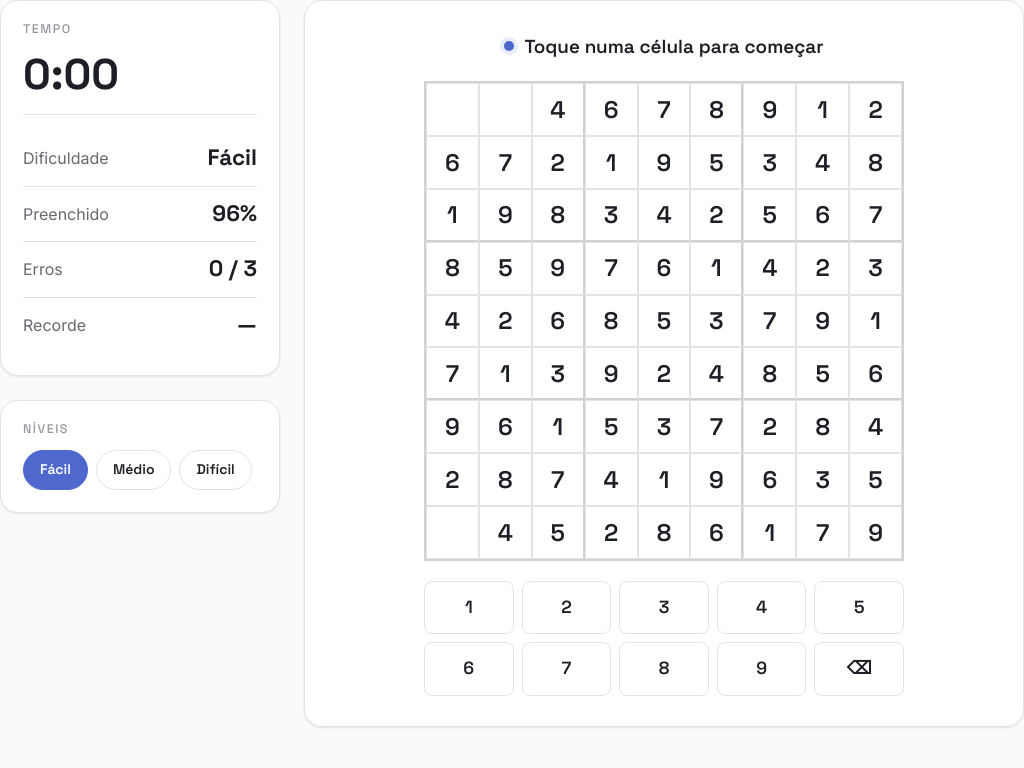
Sudoku — validação por conflito (regressão) › NÃO marca erro num número válido que difere da solução (sem conflito)
Step 1. Click the 1st element with class "su-cell" → (452, 109), box x1=426 y1=83 x2=479 y2=136
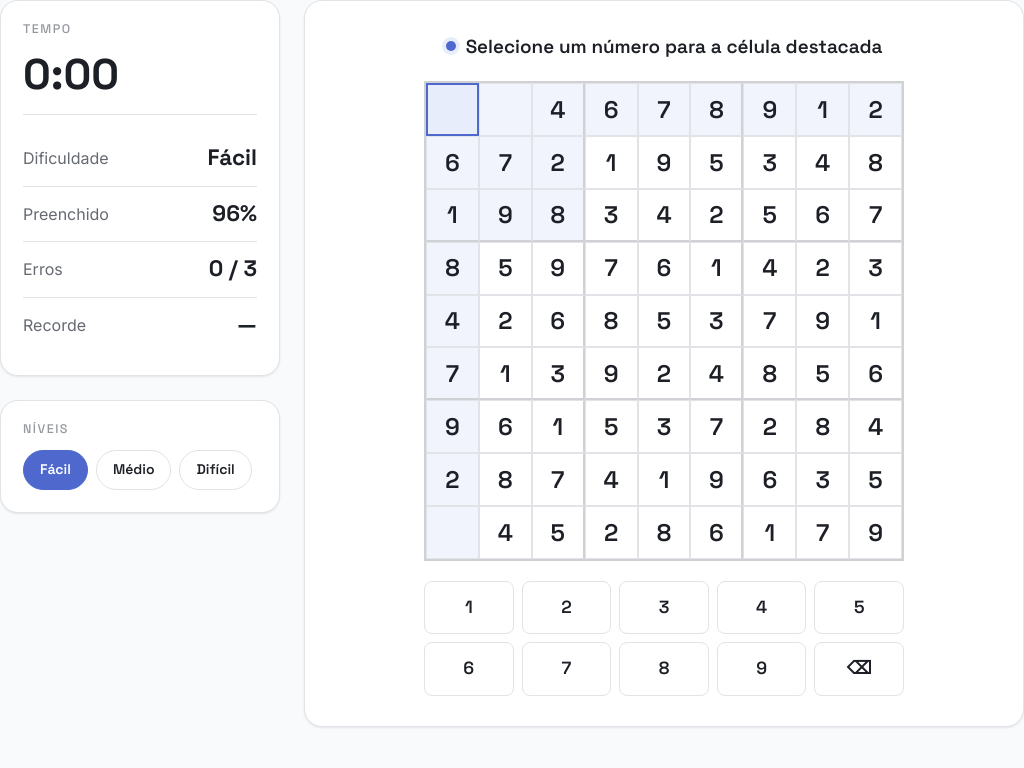
Step 2. Click the button with class "su-key" showing "3" → (664, 608), box x1=619 y1=581 x2=709 y2=634
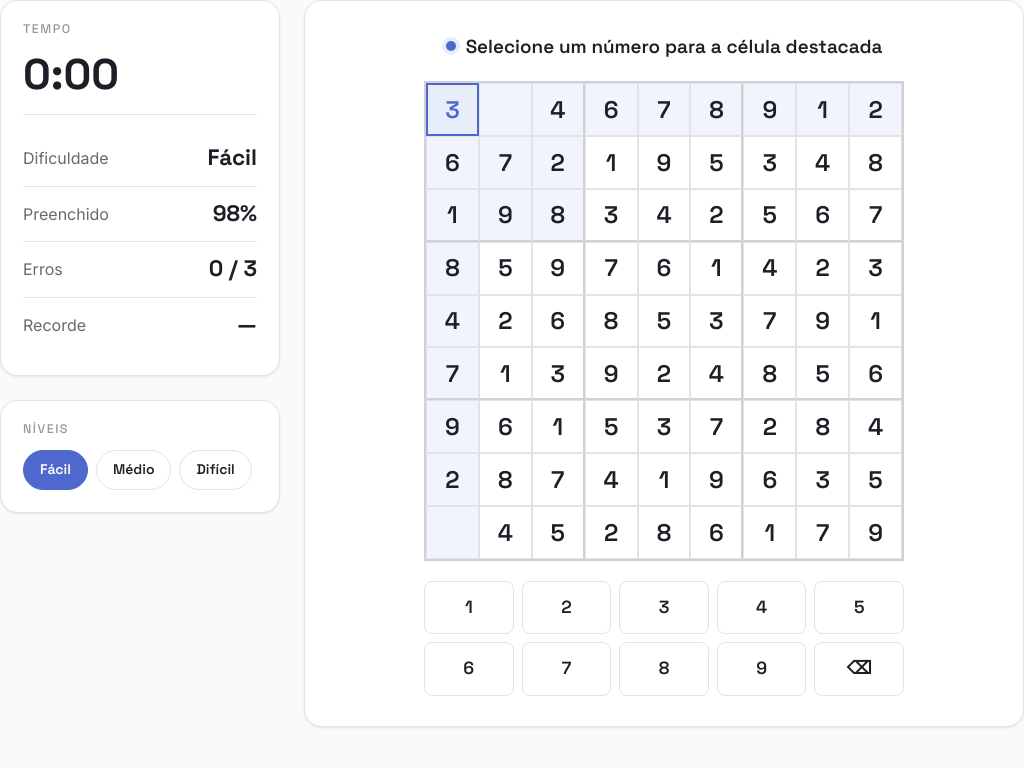
Expected: the 1st text with class "su-cell" reads "3", x1=445 y1=94 x2=460 y2=125
